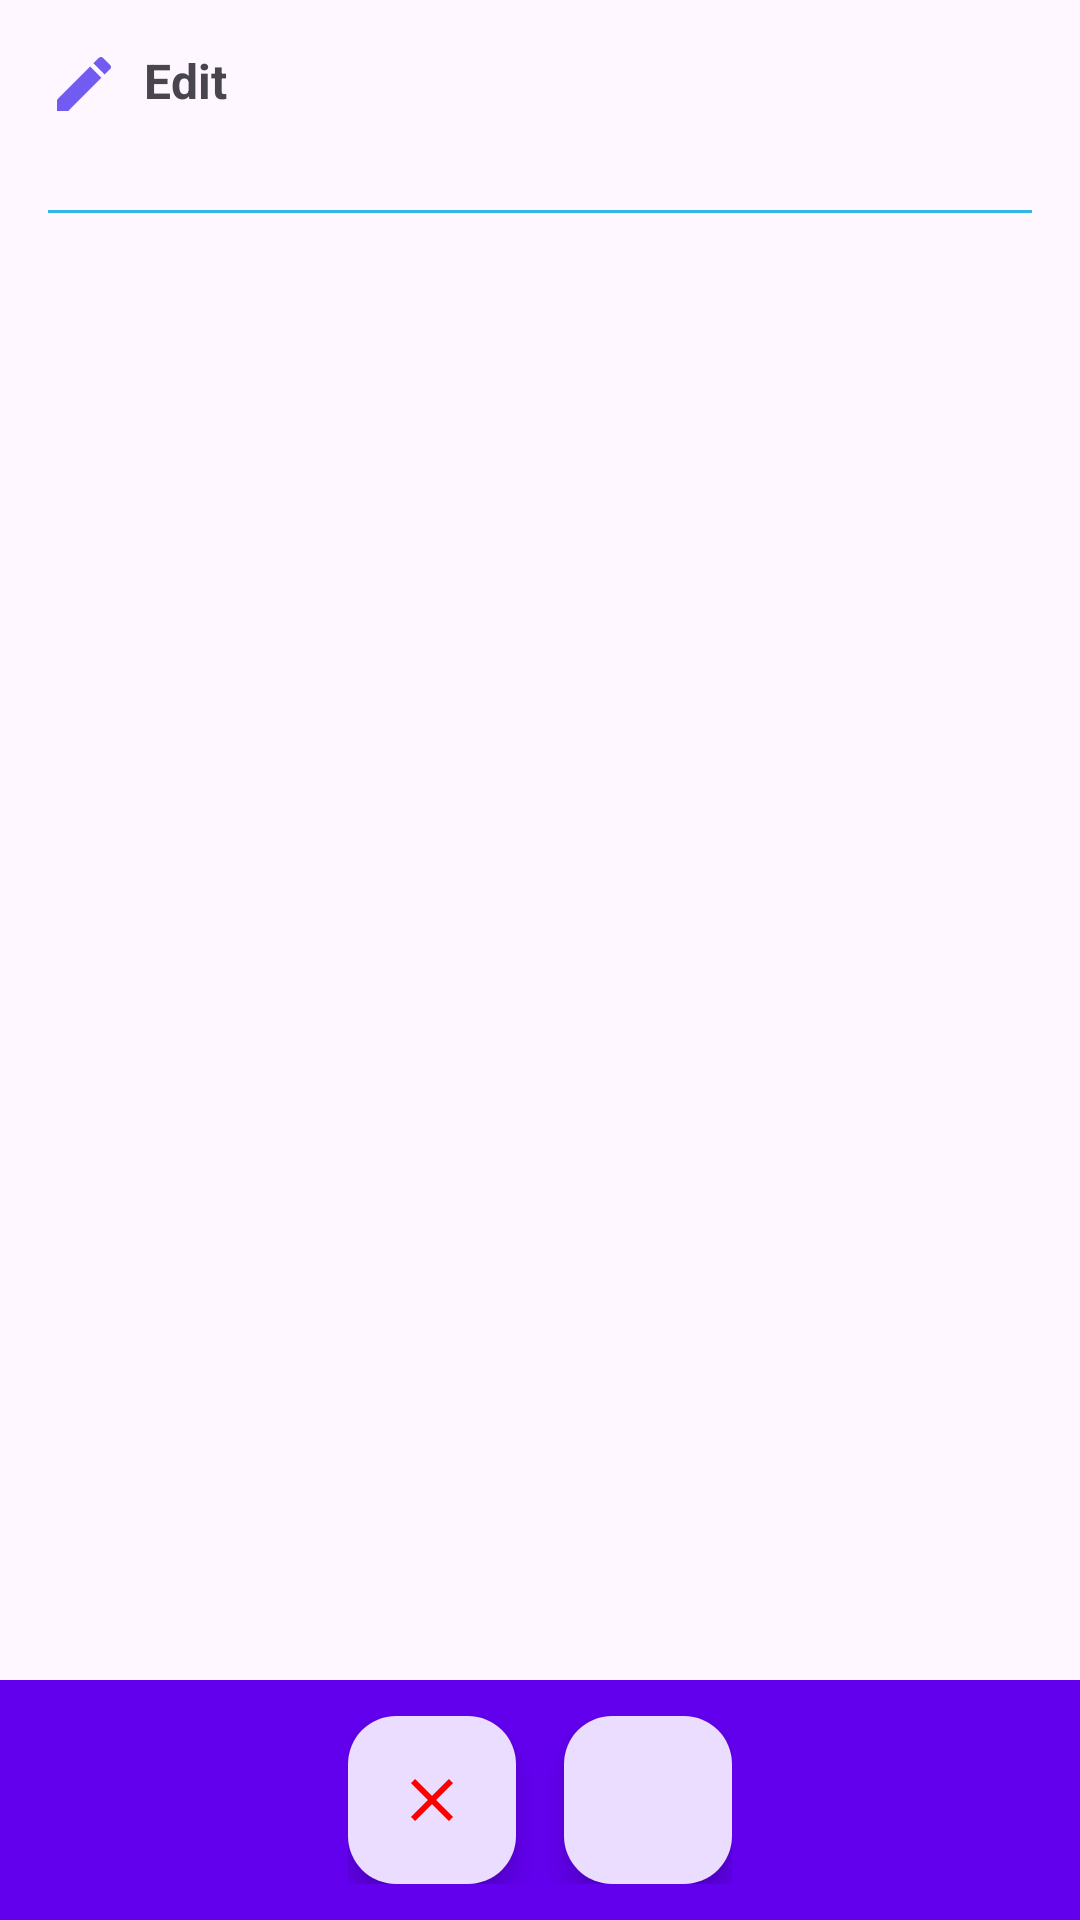

Locate icon controls on the screen. Image size 1080px x 1920px, boxes as (left=x1, top=y1, right=x2, bottom=y2).
close: (left=348, top=1716, right=516, bottom=1884)
